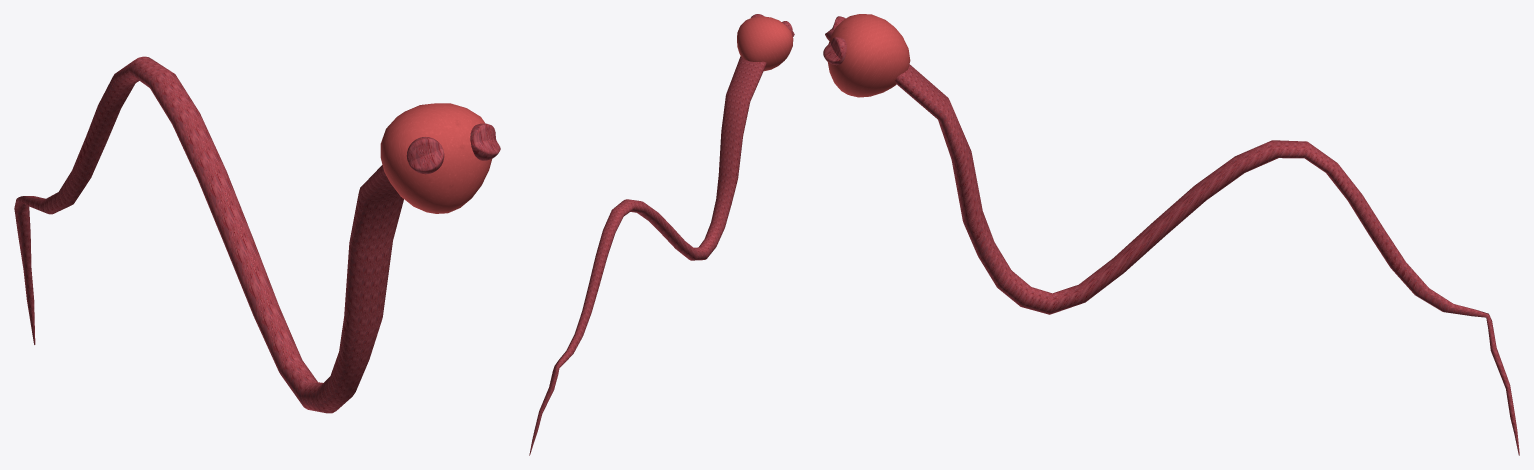
The model's file is Worm_Optimized.FBX.
3 renders of one model, left to right at view 1: azimuth 30°, elevation 25°; view 2: azimuth 150°, elevation 25°; view 3: azimuth 270°, elevation 25°, orthographic. The views are drawn at different scales.
Parts seen in each view (by area): view 1: Body, Head, Eyelids; view 2: Body, Head; view 3: Body, Head.
Part boxes in pixels (x1,y1,x2,y2): Body: (14,56,403,413); Head: (380,103,491,213); Eyelids: (406,123,500,174); Body: (529,56,766,455); Head: (737,16,793,71); Body: (895,64,1519,455); Head: (828,14,910,97).
Size of the model in its own units: 15.62 by 83.85 by 125.
2 materials, 2 textured.
